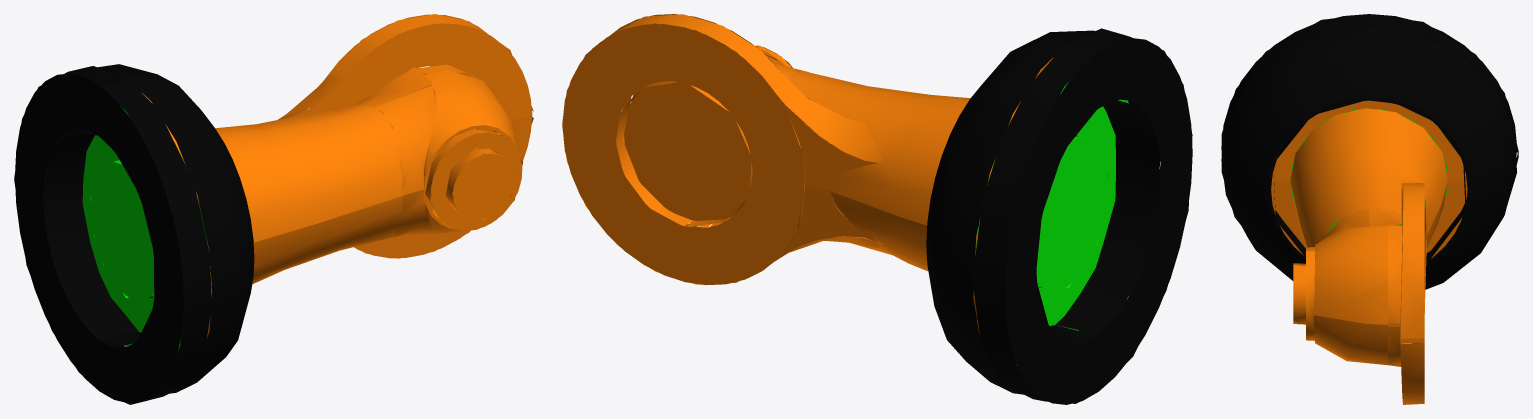
3 views of the same model, side by side, from view 1: azimuth 30°, elevation 25°; view 2: azimuth 150°, elevation 25°; view 3: azimuth 270°, elevation 25° (orthographic). The views are drawn at different scales.
Visible parts, largest first — view 1: SOLID, SOLID.001; view 2: SOLID, SOLID.001; view 3: SOLID, SOLID.001.
Part boxes in pixels (bbox=[...]): SOLID: bbox=[82, 14, 533, 350]; SOLID.001: bbox=[14, 64, 254, 404]; SOLID: bbox=[562, 14, 1128, 364]; SOLID.001: bbox=[926, 28, 1192, 404]; SOLID: bbox=[1271, 100, 1467, 404]; SOLID.001: bbox=[1221, 14, 1518, 289].
Bounding box in the file's own units: 0.368 × 0.2391 × 0.2403.
